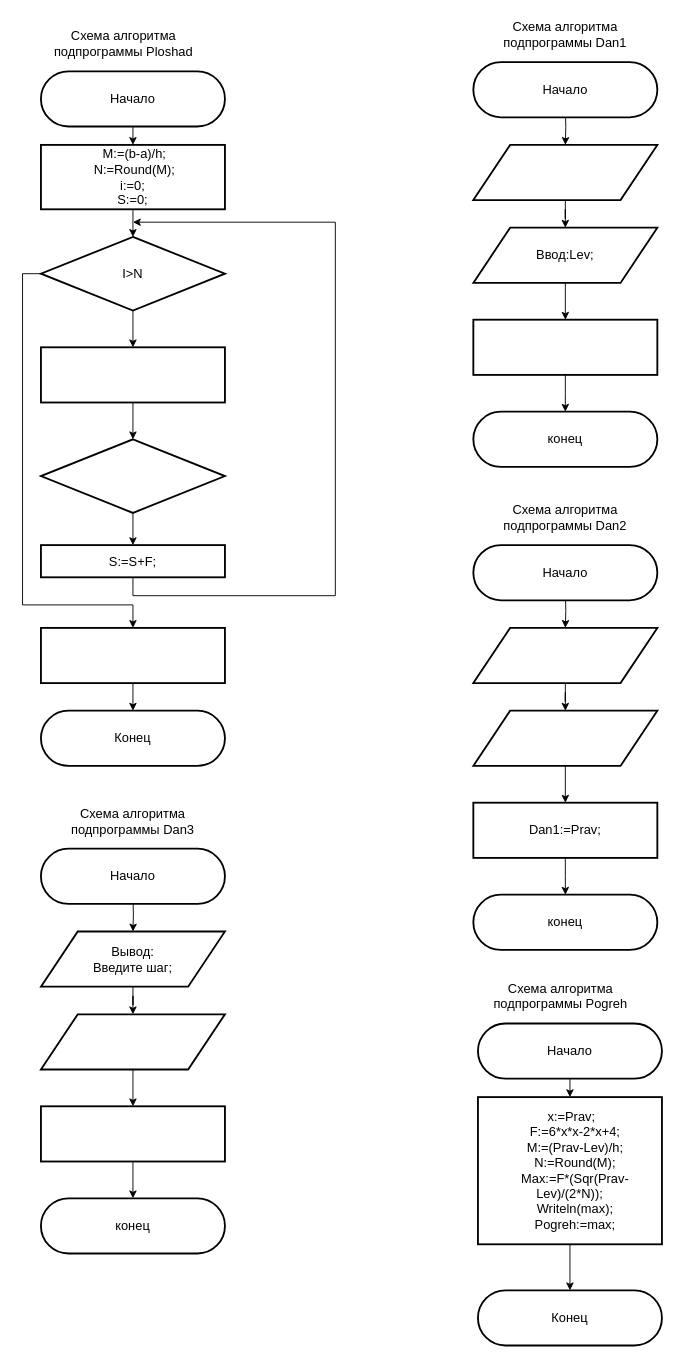
The diagram is 679 pixels wide and 1362 high, and some of its shapes have lost their labels. Here are the shapes that lost their labels. From the top down, the centre of each, then its label:
At point (565, 172): "Вывод: Введите левую границу;".
At point (565, 346): "Dan1:=Lev;".
At point (132, 374): "x:=Lev+i*Shak; F:=2*x*x*x+(-1)*x*x+4*x+17;".
At point (132, 475): "F>0".
At point (132, 655): "S:=S*Shak; Ploshad:=S;".
At point (565, 655): "Вывод: Введите правую границу;".
At point (565, 737): "Ввод:Prav;".
At point (132, 1041): "Ввод:Shak;".
At point (132, 1133): "Dan1:=Shak;".
